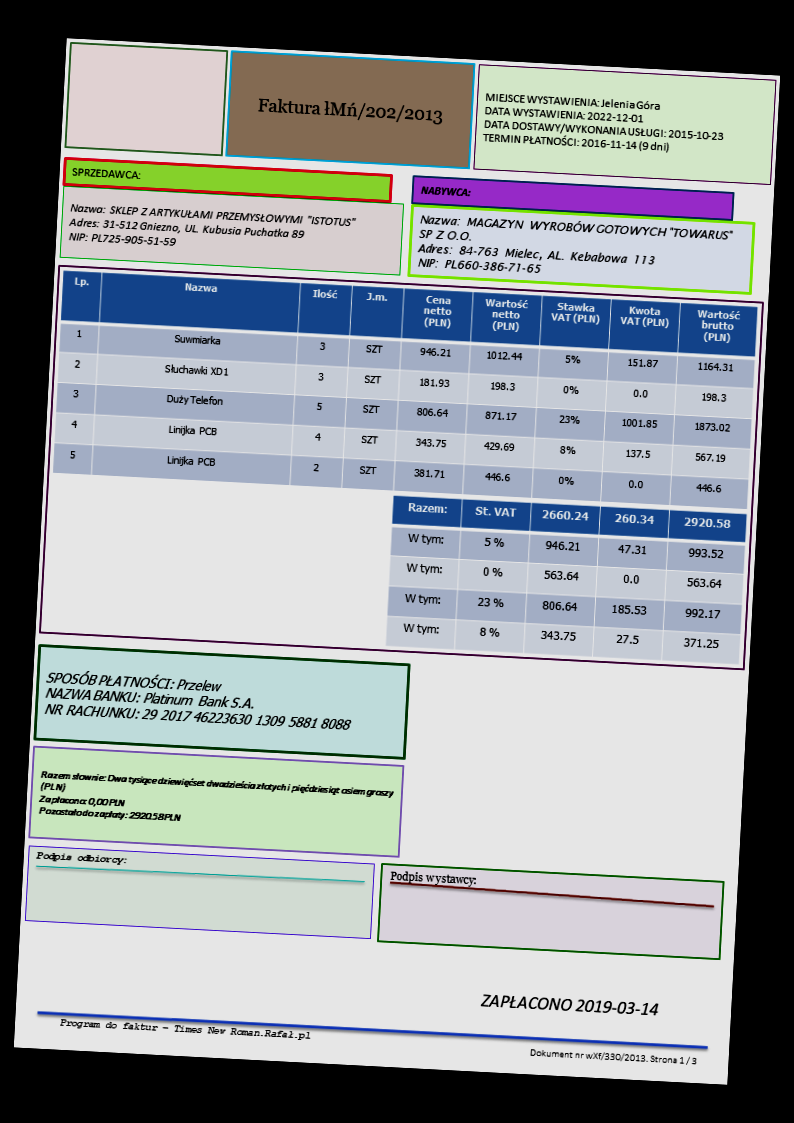Table: (51, 269, 757, 512), (384, 493, 747, 665)
TextBox: (37, 769, 396, 836), (415, 212, 734, 285), (42, 666, 355, 733), (480, 89, 728, 158), (66, 200, 358, 258), (59, 1017, 311, 1043), (254, 94, 444, 128), (478, 990, 660, 1018), (527, 1046, 699, 1067), (389, 868, 478, 890), (33, 849, 128, 868), (70, 165, 141, 182), (419, 183, 472, 200)
